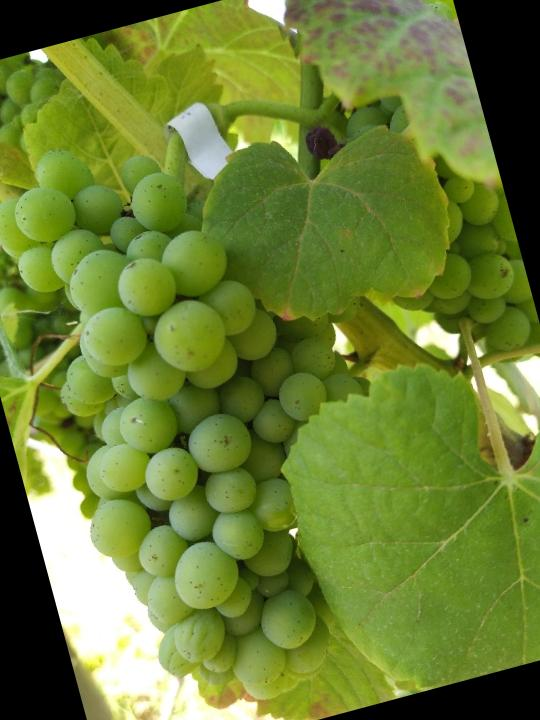grape: (0, 81, 454, 720)
